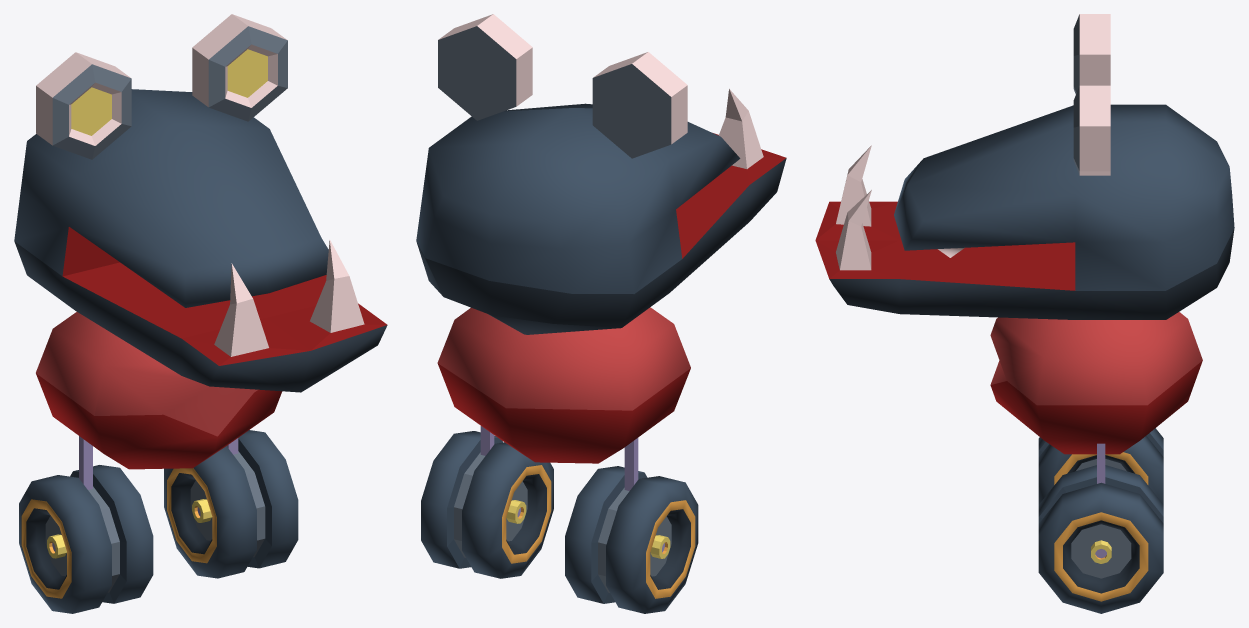
Rendered from Swarmer_Model_V01.fbx.
The picture shows the model from 3 angles, left to right: view 1: azimuth 30°, elevation 25°; view 2: azimuth 150°, elevation 25°; view 3: azimuth 270°, elevation 25°; orthographic projection. The views are drawn at different scales.
Parts seen in each view (by area): view 1: Head, Sphere, Wheel Right, Eyes, Wheel Left; view 2: Head, Sphere, Wheel Right, Wheel Left, Eyes; view 3: Head, Sphere, Wheel Left, Eyes, Wheel Right.
Part boxes in pixels (box(x1,y1,x2,y2)): Head: box(14, 89, 387, 392); Sphere: box(36, 312, 282, 469); Wheel Right: box(19, 436, 153, 613); Eyes: box(36, 14, 287, 159); Wheel Left: box(164, 430, 298, 578); Head: box(416, 89, 786, 334); Sphere: box(437, 307, 690, 463); Wheel Right: box(565, 438, 698, 613); Wheel Left: box(421, 426, 553, 578); Eyes: box(438, 14, 687, 158); Head: box(815, 104, 1234, 319); Sphere: box(990, 312, 1202, 454); Wheel Left: box(1038, 443, 1163, 613); Eyes: box(1073, 14, 1110, 175); Wheel Right: box(1038, 428, 1163, 504).
Bounding box in the file's own units: 112 × 249 × 184.
